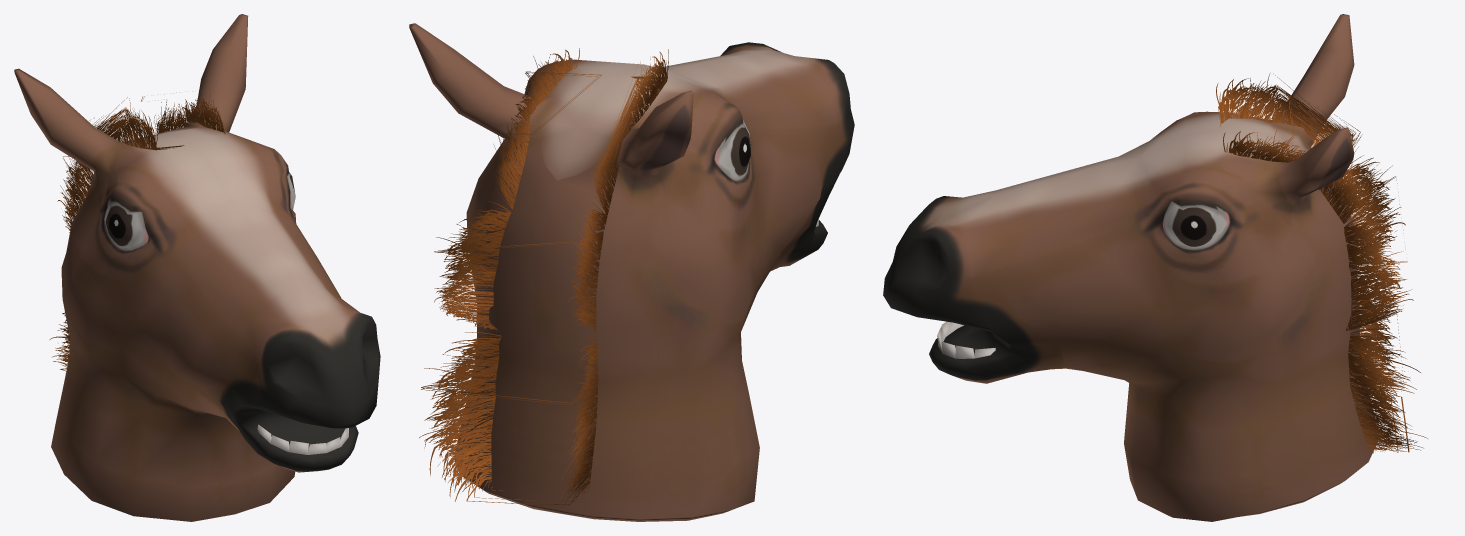
The model's file is HorseHead.fbx.
3 views of the same model, side by side, from view 1: azimuth 30°, elevation 25°; view 2: azimuth 150°, elevation 25°; view 3: azimuth 270°, elevation 25° (orthographic). The views are drawn at different scales.
Parts seen in each view (by area): view 1: horsemask1; view 2: horsemask1; view 3: horsemask1.
Boxes of the visible parts, x1,y1,x2,y2 form: horsemask1: [14, 14, 380, 521]; horsemask1: [409, 23, 854, 521]; horsemask1: [883, 14, 1427, 521].
Size of the model in its own units: 73.97 by 120 by 151.
